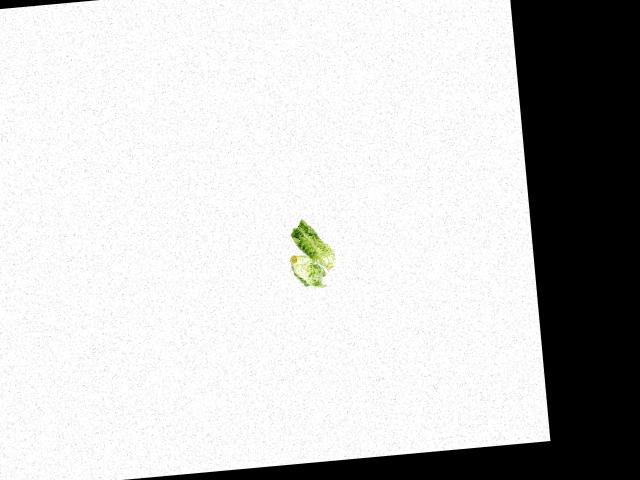lettuce: (283, 250, 328, 292)
